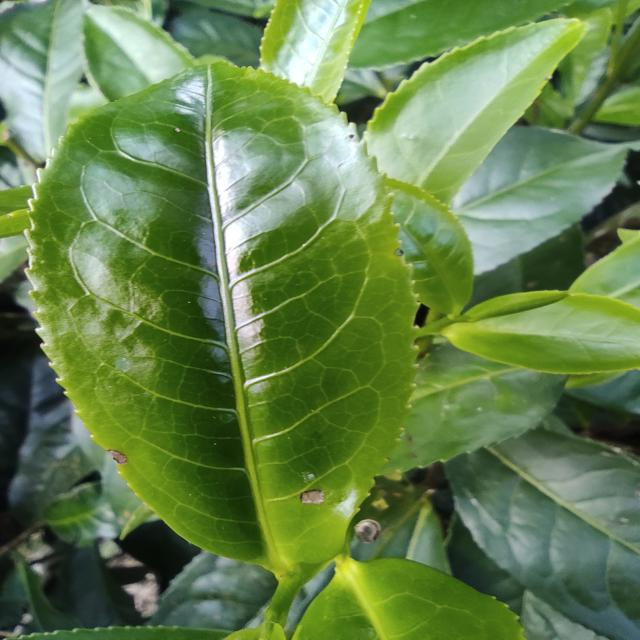Category B(2-4 days): (23, 48, 420, 586)
